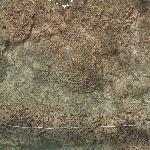dead: (1, 1, 149, 148)
